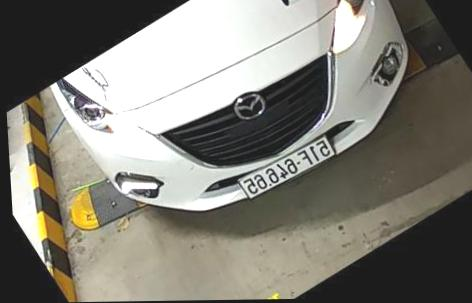License_Plate: (230, 133, 347, 202)
